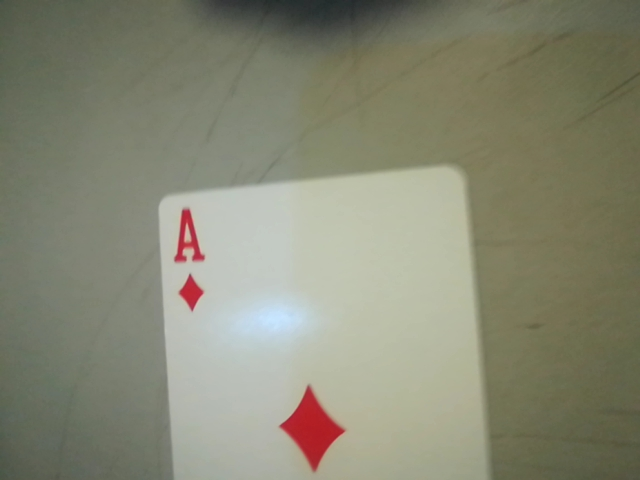fk a: (158, 200, 217, 319)
